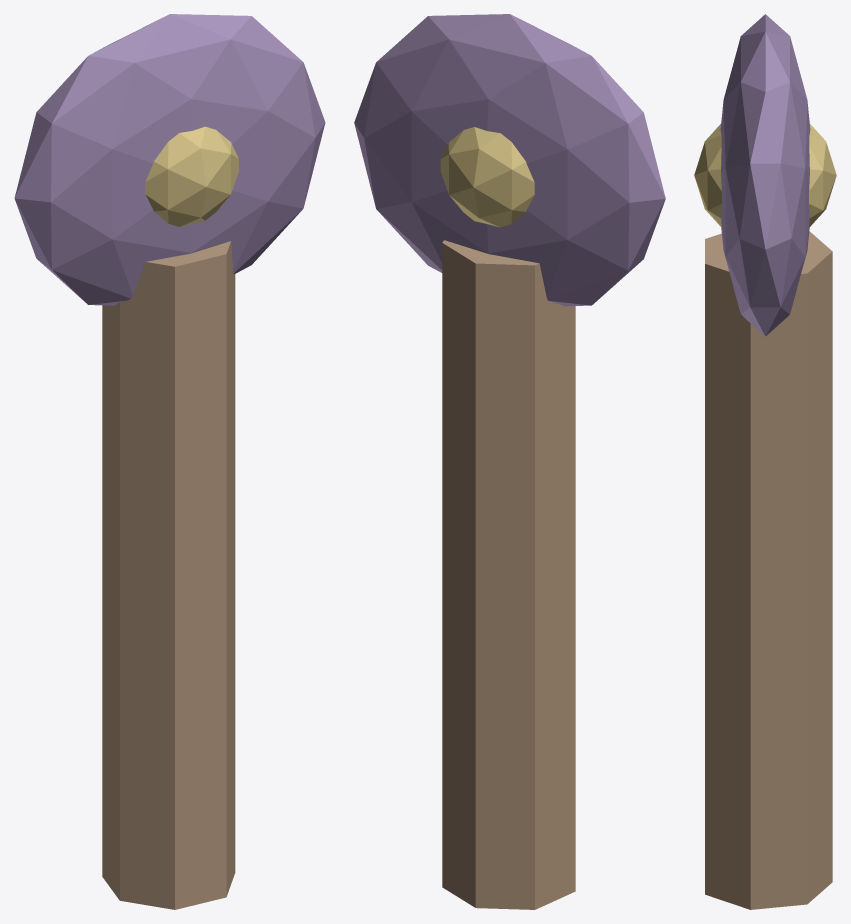
The model's file is mission_marker.glb.
3 views of the same model, side by side, from view 1: azimuth 30°, elevation 25°; view 2: azimuth 150°, elevation 25°; view 3: azimuth 270°, elevation 25° (orthographic). The views are drawn at different scales.
Parts seen in each view (by area): view 1: Post, Badge, Socket_socket; view 2: Post, Badge, Socket_socket; view 3: Post, Badge, Socket_socket.
Boxes of the visible parts, x1,y1,x2,y2 form: Post: (102,241,235,909); Badge: (14,14,325,305); Socket_socket: (145,126,238,226); Post: (442,240,575,909); Badge: (354,14,665,306); Socket_socket: (440,127,534,227); Post: (705,231,832,909); Badge: (720,14,810,336); Socket_socket: (694,123,836,227).
Size of the model in its own units: 0.42 by 1.12 by 0.17.
